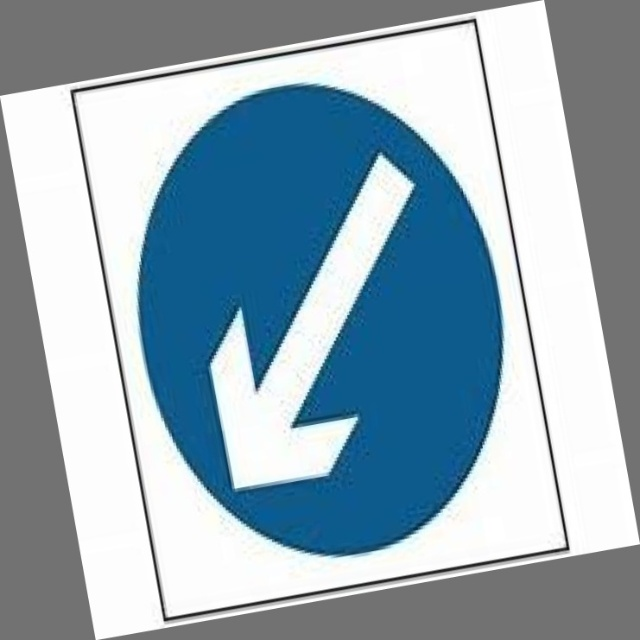R.301e: (95, 47, 548, 589)
